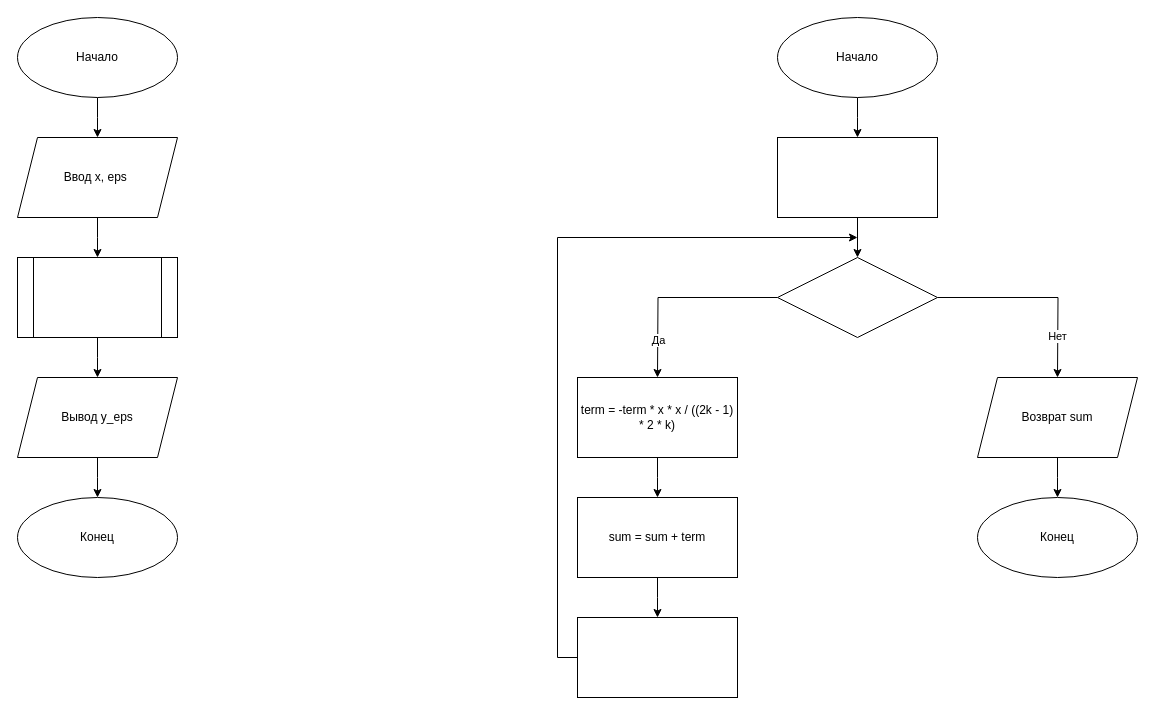
Image size: 1155x715. Some labels were removed from this diagram. The centre of each missing label's shape, as x and y in pixels:
"k = k + 1" belongs at (657,657).
"sum = 1.0, term = 1.0, k = 1" belongs at (857,177).
"|term| > eps ?" belongs at (857,297).
"Вызов y_eps = cos_eps (x, eps)" belongs at (97,297).
